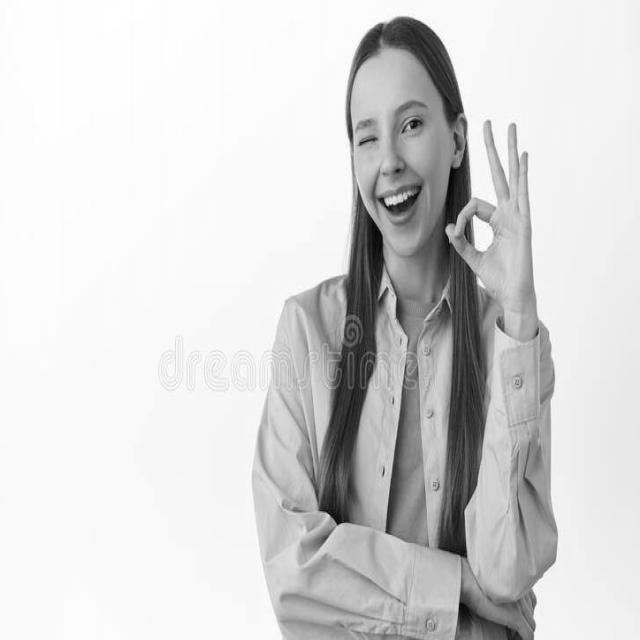perfect: (442, 108, 541, 317)
